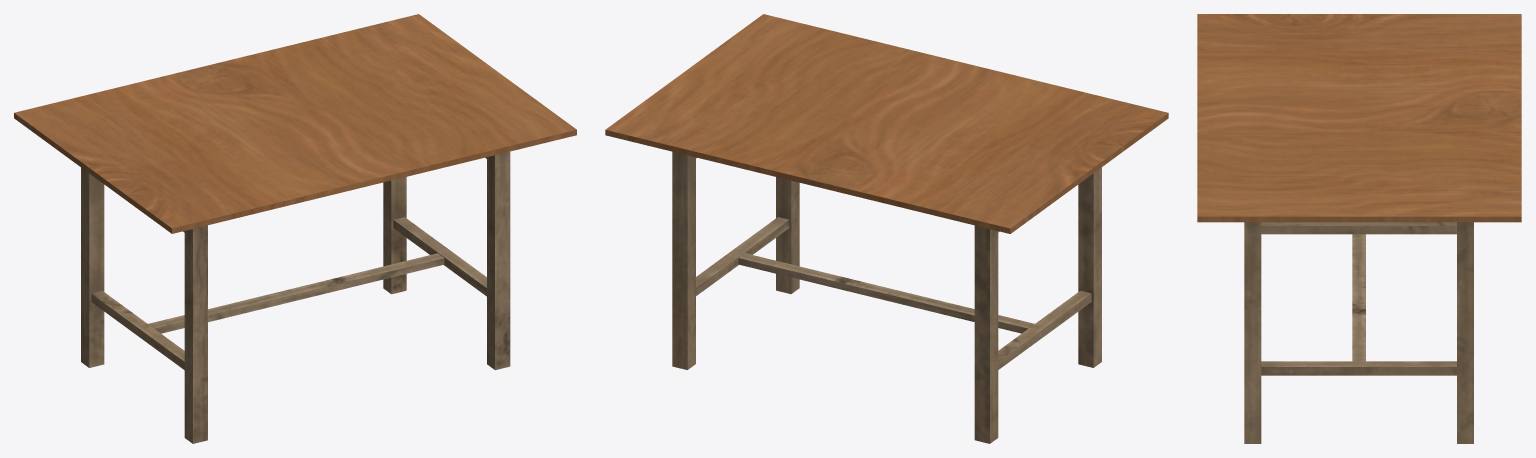
The model's file is table.FBX.
3 views of the same model, side by side, from view 1: azimuth 30°, elevation 25°; view 2: azimuth 150°, elevation 25°; view 3: azimuth 270°, elevation 25° (orthographic). The views are drawn at different scales.
Visible parts, largest first — view 1: table; view 2: table; view 3: table.
Boxes of the visible parts, bbox=[...] form: table: bbox=[14, 14, 576, 443]; table: bbox=[605, 14, 1168, 443]; table: bbox=[1197, 14, 1521, 443].
Size of the model in its own units: 54.6 by 31.3 by 36.92.
